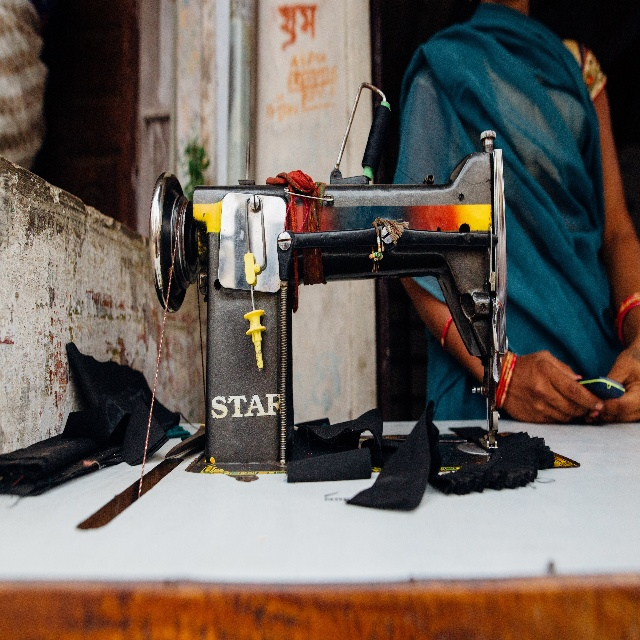Sin_guantes: (504, 348, 604, 425), (601, 342, 640, 424)
